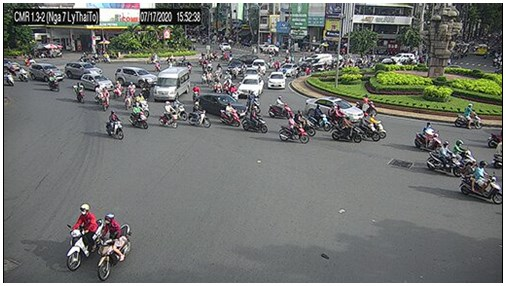xe_hoi: (115, 67, 158, 88), (29, 63, 62, 82), (237, 74, 263, 97), (65, 62, 102, 78), (81, 72, 112, 90), (304, 53, 332, 66), (267, 71, 285, 89), (389, 51, 413, 63), (253, 60, 265, 72)
xe_khach: (155, 68, 185, 100)
xe_may: (66, 202, 102, 271), (97, 213, 131, 281), (460, 161, 503, 204), (429, 141, 464, 177), (277, 113, 308, 144), (330, 114, 361, 145), (414, 123, 445, 154), (453, 140, 479, 171), (454, 104, 484, 130), (306, 103, 330, 133), (243, 105, 266, 135), (358, 113, 380, 144), (189, 100, 211, 128), (158, 101, 179, 129), (128, 102, 148, 131), (219, 103, 241, 129), (267, 96, 294, 117), (295, 110, 315, 137), (327, 103, 349, 126), (107, 110, 123, 141), (358, 93, 377, 116), (135, 93, 149, 117), (493, 137, 504, 167), (173, 97, 186, 121), (47, 69, 60, 91), (73, 82, 85, 103), (101, 86, 110, 113), (4, 69, 14, 87), (191, 83, 199, 102), (18, 66, 28, 81), (113, 80, 120, 99), (212, 79, 221, 93), (127, 81, 134, 97), (231, 83, 236, 100)
